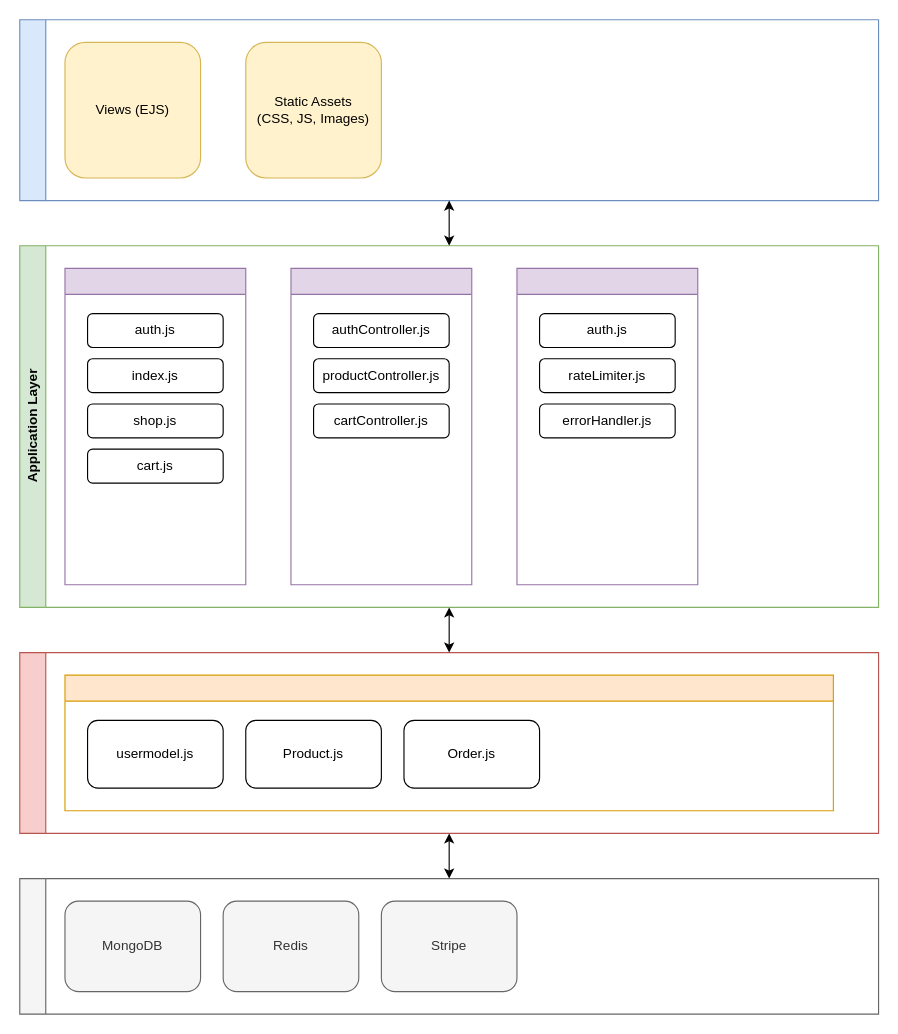
Image size: 898x1034. Some labels were removed from this diagram. Each missing label, with the box of its shape:
Controllers: (290, 267, 472, 585)
Data Layer: (19, 651, 879, 833)
External Services: (19, 877, 879, 1014)
Frontend Layer: (19, 19, 879, 201)
Middlewares: (516, 267, 698, 585)
Models: (64, 674, 833, 811)
Routes: (64, 267, 246, 585)
